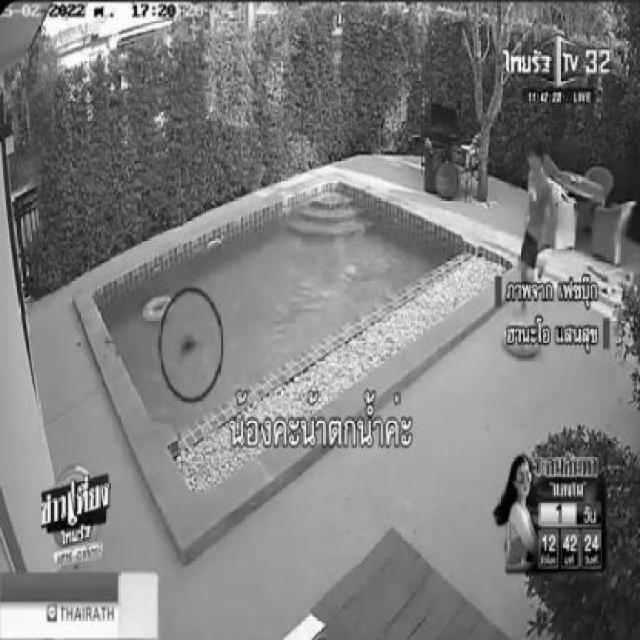drowning: (172, 316, 210, 372)
